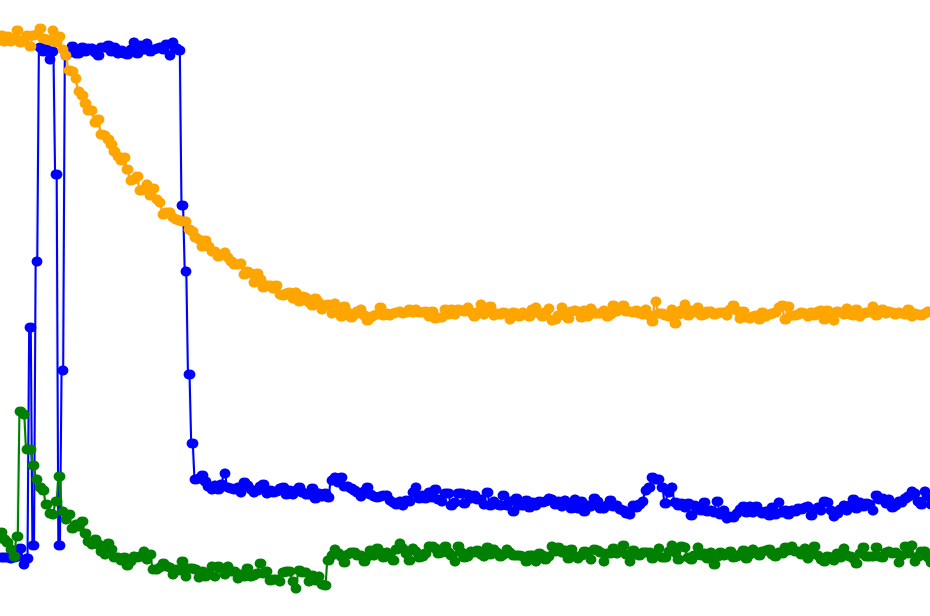Condensation (CO2): (38, 0, 194, 616)
Low CO2: (349, 0, 930, 616), (194, 0, 349, 616)
Normal: (0, 0, 194, 616), (194, 0, 349, 616)
O2 Problem: (349, 0, 930, 616)
